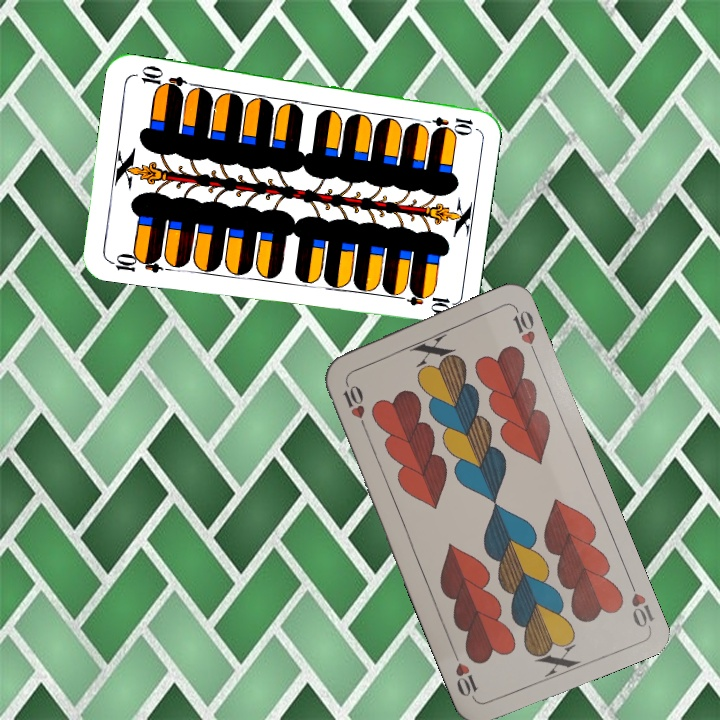E10: (105, 249, 164, 276), (416, 112, 476, 134)
H10: (623, 573, 656, 630), (338, 376, 369, 433)
